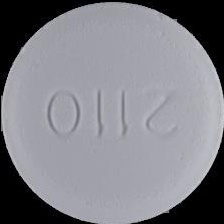55700-015: (0, 0, 224, 224)
